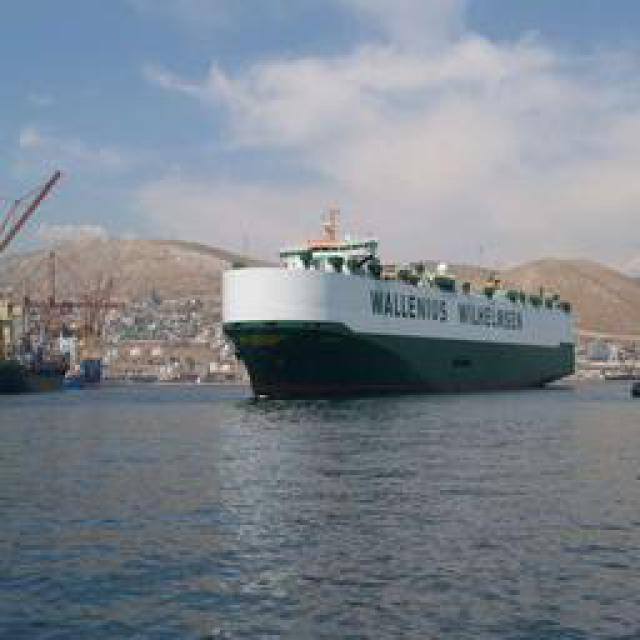Ship: (220, 208, 575, 396)
